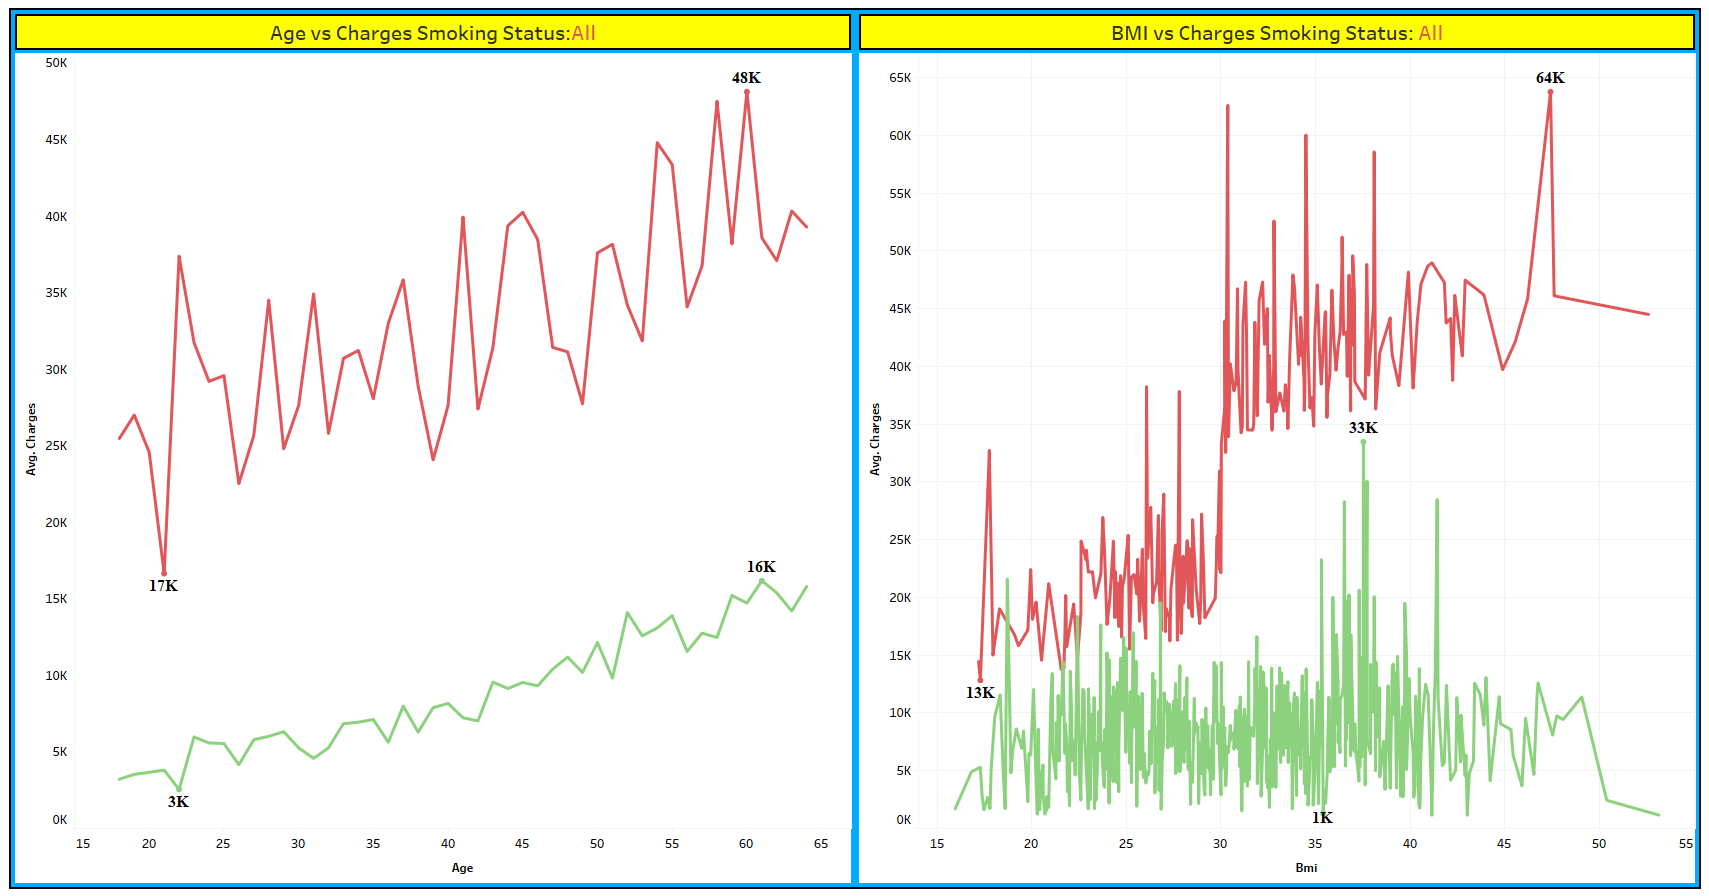

The dashboard page shown, as its layout file describes it:
{"tool":"tableau","page":{"name":"Dashboard 4","canvas":[1000,1000],"units":"permille","ordinal":3},"visuals":[{"type":"worksheet","title":"Age vs Charges Smoking Status:","mark":"Line","rows":["charges"],"cols":["age"],"box":[6.5,11.2,494.1,978.8]},{"type":"worksheet","title":"BMI vs Charges Smoking Status:","mark":"Line","rows":["charges"],"cols":["bmi"],"box":[500.6,11.2,493.6,978.8]}]}

Visuals, with their boxes on the dashboard's canvas, which has no fixed pixel size, in thousandths of its width and height (x1, y1, x2, y2). These are canvas units, not pixel positions in the 1709x896 screenshot, which may show the page scaled, cropped or inside an application window:
"Age vs Charges Smoking Status:" worksheet (Line marks): BBox(6, 11, 501, 990)
"BMI vs Charges Smoking Status:" worksheet (Line marks): BBox(501, 11, 994, 990)
